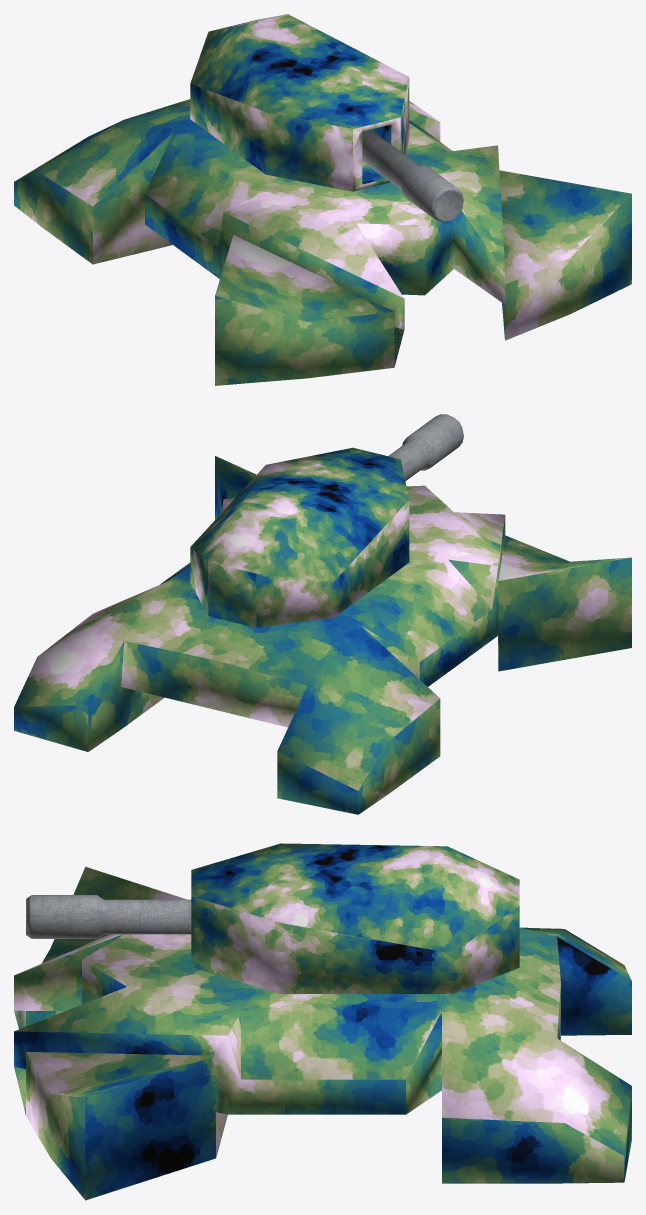
The model's file is tank.fbx.
The picture shows the model from 3 angles, top to bottom: view 1: azimuth 30°, elevation 25°; view 2: azimuth 150°, elevation 25°; view 3: azimuth 270°, elevation 25°; orthographic projection. The views are drawn at different scales.
Visible parts, largest first — view 1: Mesh_001, Mesh_002, Mesh; view 2: Mesh_001, Mesh_002, Mesh; view 3: Mesh_001, Mesh_002, Mesh.
Boxes of the visible parts, x1,y1,x2,y2 form: Mesh_001: [14, 99, 631, 385]; Mesh_002: [190, 14, 409, 191]; Mesh: [362, 130, 463, 222]; Mesh_001: [14, 456, 631, 814]; Mesh_002: [190, 447, 409, 627]; Mesh: [388, 414, 463, 480]; Mesh_001: [14, 866, 631, 1200]; Mesh_002: [191, 843, 519, 993]; Mesh: [26, 895, 191, 938].
Size of the model in its own units: 5.82 by 2.67 by 6.57.
Materials: 3 (3 with a texture image).
